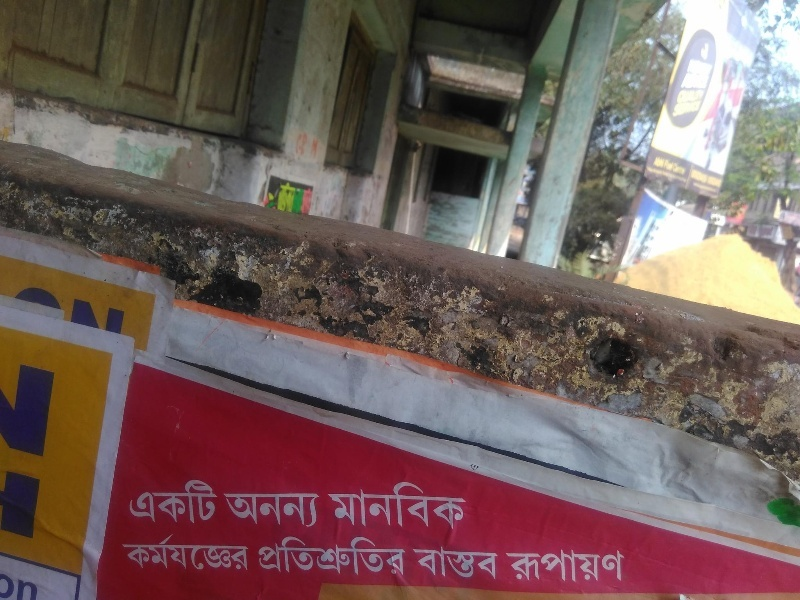text: (17, 355, 32, 599), (33, 355, 48, 599), (3, 355, 16, 599), (689, 23, 704, 197), (705, 23, 720, 197), (721, 23, 736, 197), (737, 23, 752, 197), (49, 355, 57, 599), (33, 275, 48, 372), (49, 275, 64, 372), (65, 275, 80, 372), (81, 275, 96, 372), (97, 275, 112, 372), (113, 275, 128, 372), (129, 275, 144, 372), (753, 23, 761, 197), (19, 275, 32, 372), (145, 275, 154, 372), (337, 479, 352, 533), (353, 479, 368, 533), (369, 479, 384, 533), (385, 479, 400, 533), (401, 479, 416, 533), (417, 479, 432, 533), (433, 479, 448, 533), (449, 479, 464, 533), (129, 478, 144, 525), (145, 478, 160, 525), (161, 478, 176, 525), (177, 478, 192, 525), (193, 478, 208, 525), (273, 174, 288, 218), (289, 174, 304, 218), (305, 174, 320, 218), (273, 535, 288, 578), (289, 535, 304, 578), (305, 535, 320, 578), (321, 535, 336, 578), (337, 535, 352, 578), (353, 535, 368, 578), (369, 535, 384, 578), (385, 535, 400, 578), (129, 534, 144, 572), (145, 534, 160, 572), (161, 534, 176, 572), (177, 534, 192, 572), (193, 534, 208, 572), (209, 534, 224, 572), (225, 534, 240, 572), (259, 535, 272, 578), (225, 491, 240, 528), (241, 491, 256, 528), (257, 491, 272, 528), (273, 491, 288, 528), (289, 491, 304, 528), (305, 491, 320, 528), (417, 547, 432, 581), (433, 547, 448, 581), (449, 547, 464, 581), (465, 547, 480, 581), (481, 547, 496, 581), (513, 551, 528, 581), (529, 551, 544, 581), (545, 551, 560, 581), (561, 551, 576, 581), (577, 551, 592, 581), (593, 551, 608, 581), (609, 551, 624, 581), (209, 478, 218, 525), (465, 479, 472, 533), (686, 23, 688, 197), (330, 479, 336, 533), (241, 534, 249, 572), (401, 535, 406, 578), (123, 534, 128, 572), (268, 174, 272, 218), (507, 551, 512, 581), (412, 547, 416, 581), (321, 174, 324, 218), (497, 547, 499, 581)
